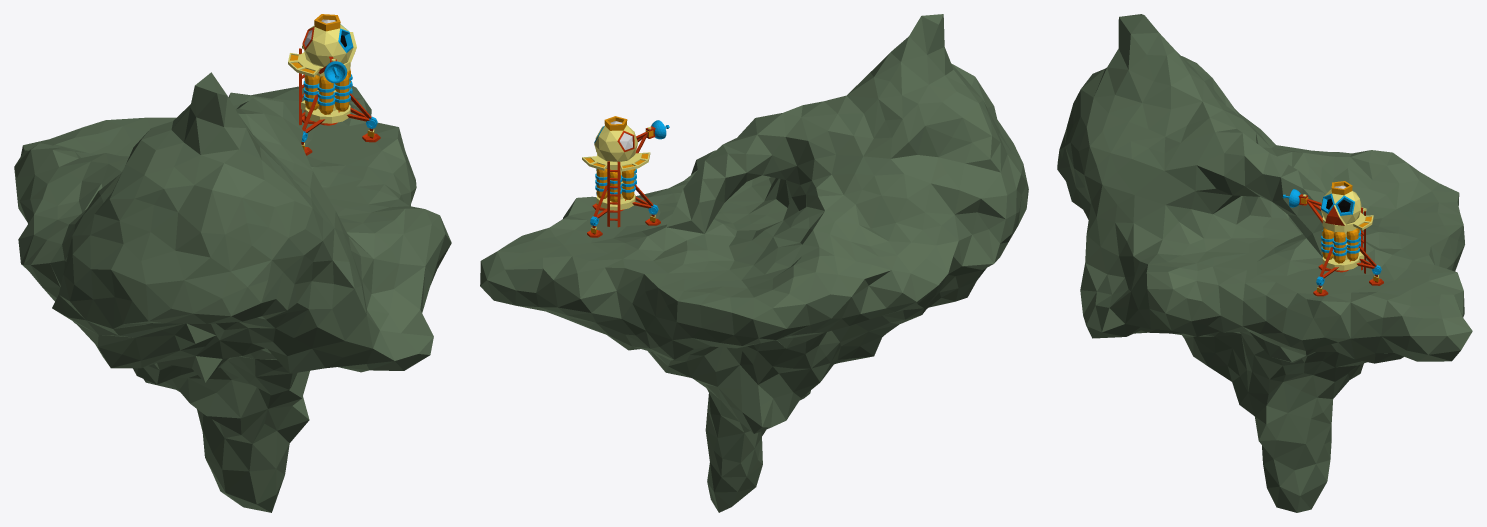
Rendered from lander.glb.
3 views of the same model, side by side, from view 1: azimuth 30°, elevation 25°; view 2: azimuth 150°, elevation 25°; view 3: azimuth 270°, elevation 25° (orthographic). The views are drawn at different scales.
Parts seen in each view (by area): view 1: planet, lander; view 2: planet, lander; view 3: planet, lander.
Part boxes in pixels (box(x1,y1,x2,y2)): planet: box(14, 72, 451, 512); lander: box(288, 14, 380, 155); planet: box(480, 14, 1028, 512); lander: box(582, 116, 669, 237); planet: box(1057, 14, 1472, 512); lander: box(1282, 181, 1383, 296).
Bounding box in the file's own units: 22.77 × 25.8 × 22.06.
